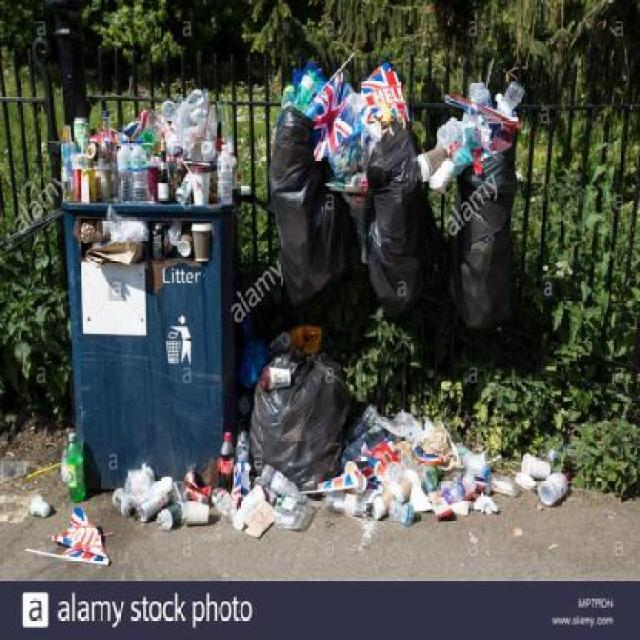garbage: (263, 71, 514, 331), (234, 339, 560, 515), (46, 425, 270, 539), (65, 116, 220, 265)
